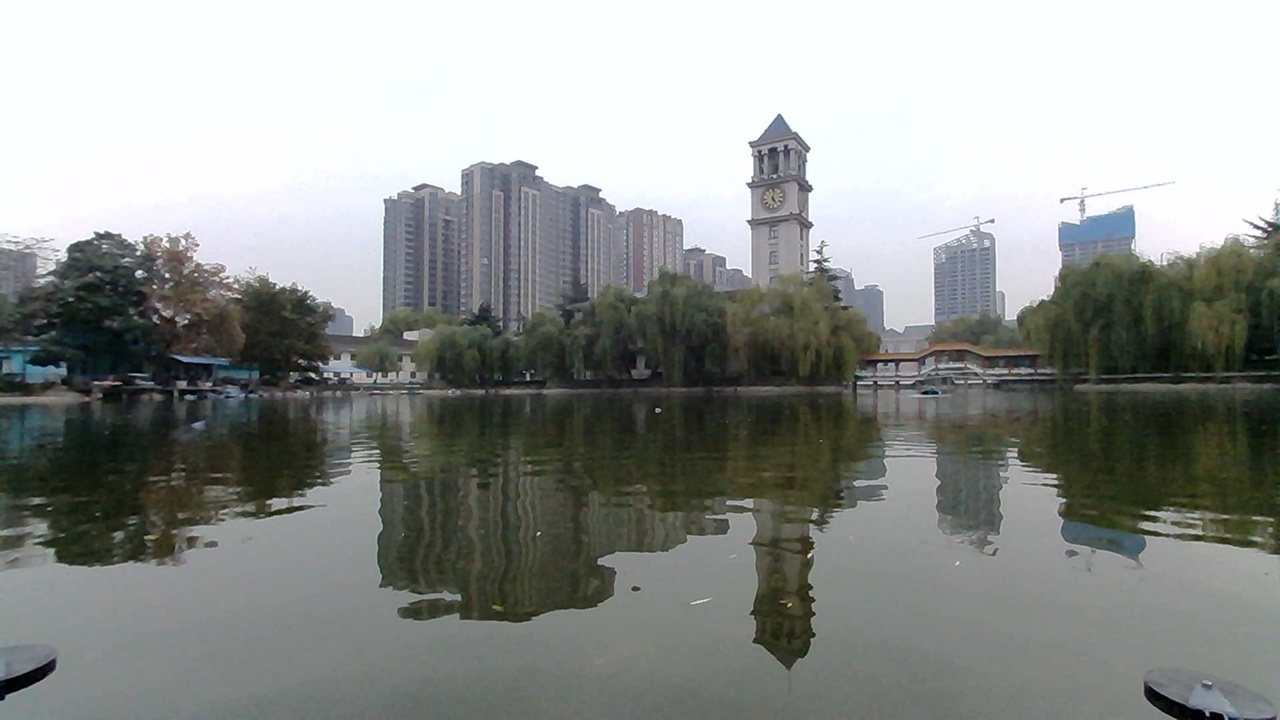bottle: (185, 410, 235, 446), (639, 390, 671, 417)
